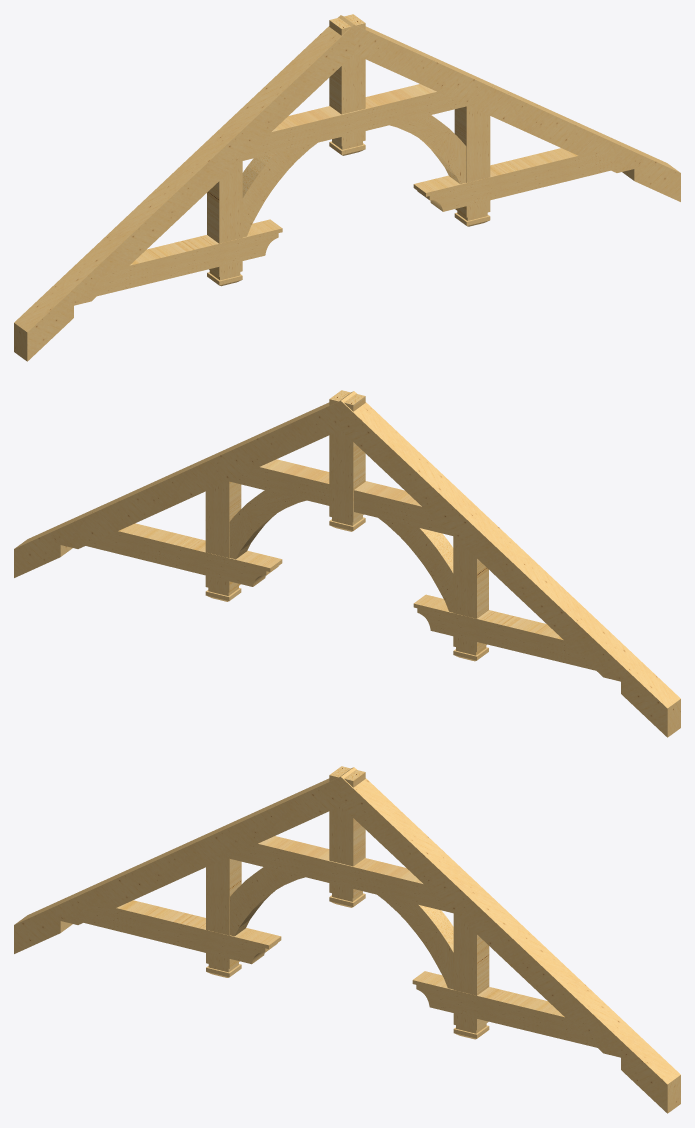
The model's file is hammer12_truss.glb.
3 renders of one model, top to bottom at view 1: azimuth 30°, elevation 25°; view 2: azimuth 150°, elevation 25°; view 3: azimuth 330°, elevation 25°, orthographic.
Visible parts, largest first — view 1: hammer-truss; view 2: hammer-truss; view 3: hammer-truss.
Part boxes in pixels (x1=…): hammer-truss: x1=14, y1=14, x2=680, y2=361; hammer-truss: x1=14, y1=390, x2=680, y2=737; hammer-truss: x1=14, y1=766, x2=680, y2=1113.
Bounding box in the file's own units: 4.28 × 1.61 × 0.1524.
Materials: 1 (1 with a texture image).
